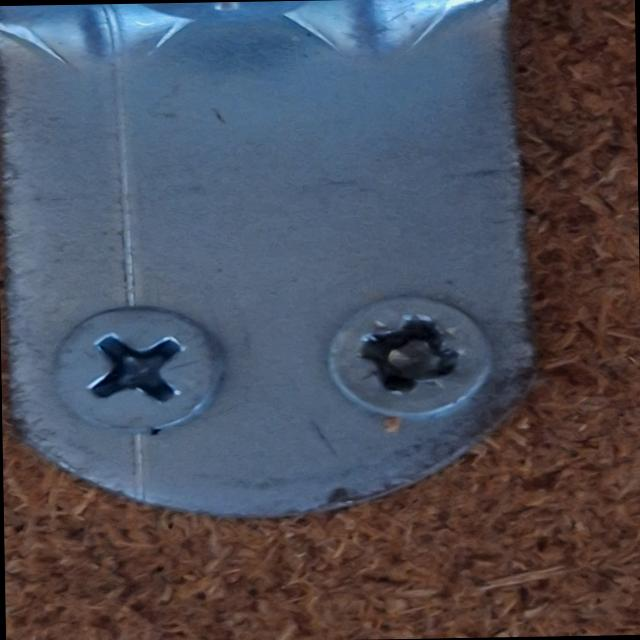Phillips: (42, 300, 240, 438)
Pozidriv: (309, 292, 519, 428)
